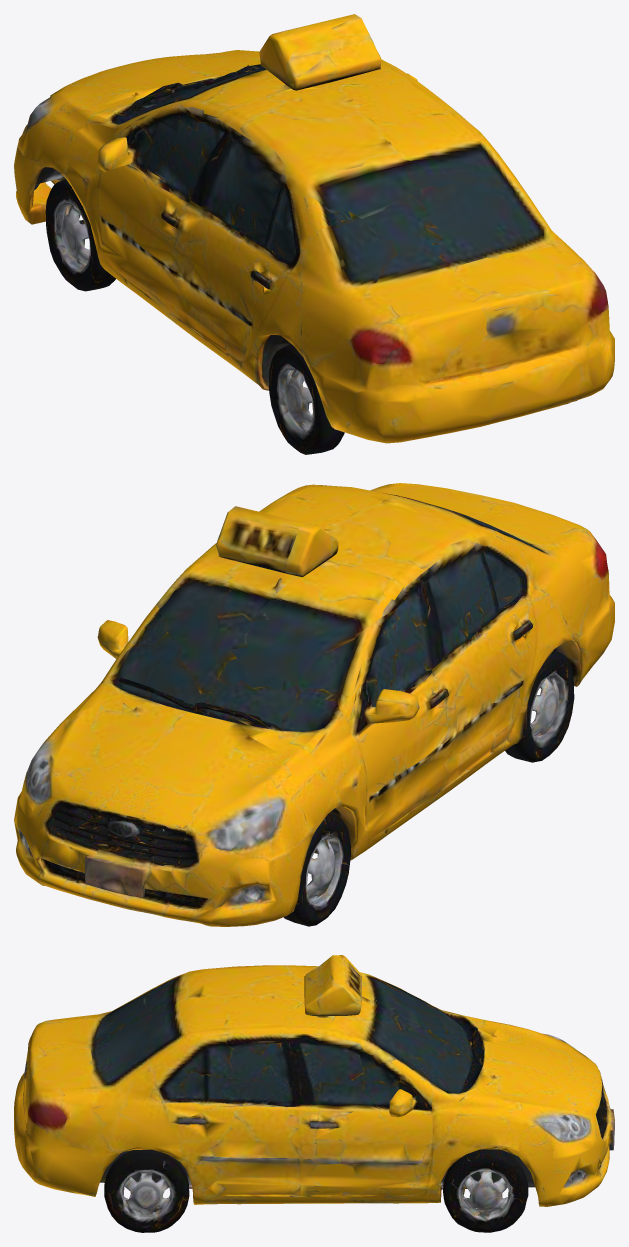
Rendered from taxi.glb.
3 views of the same model, one above another, from view 1: azimuth 30°, elevation 25°; view 2: azimuth 150°, elevation 25°; view 3: azimuth 270°, elevation 25° (orthographic). The views are drawn at different scales.
Size of the model in its own units: 0.8763 by 0.7885 by 1.9.
Materials: 1 (1 with a texture image).
